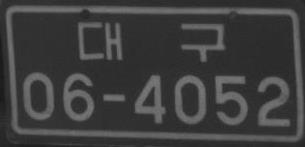0: (172, 72, 207, 124), (22, 71, 55, 121)
2: (256, 74, 291, 128)
4: (135, 73, 166, 124)
5: (214, 74, 248, 126)
6: (62, 71, 95, 122)
대구_D: (77, 20, 227, 62)
